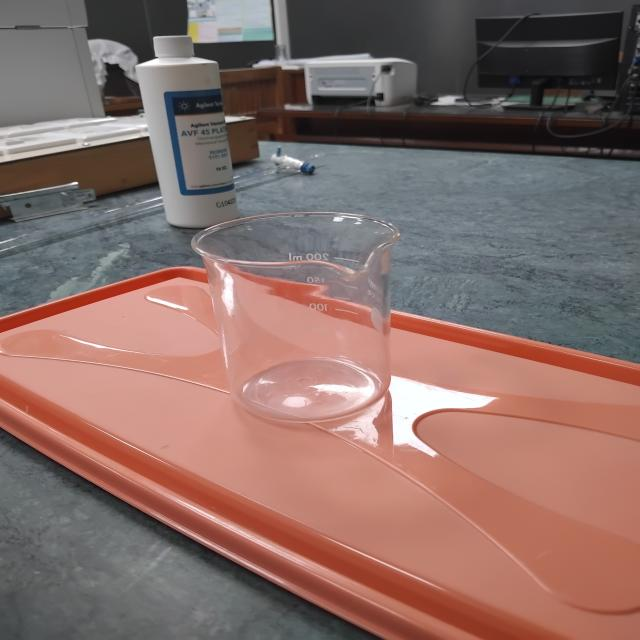Beaker: (148, 152, 457, 452)
